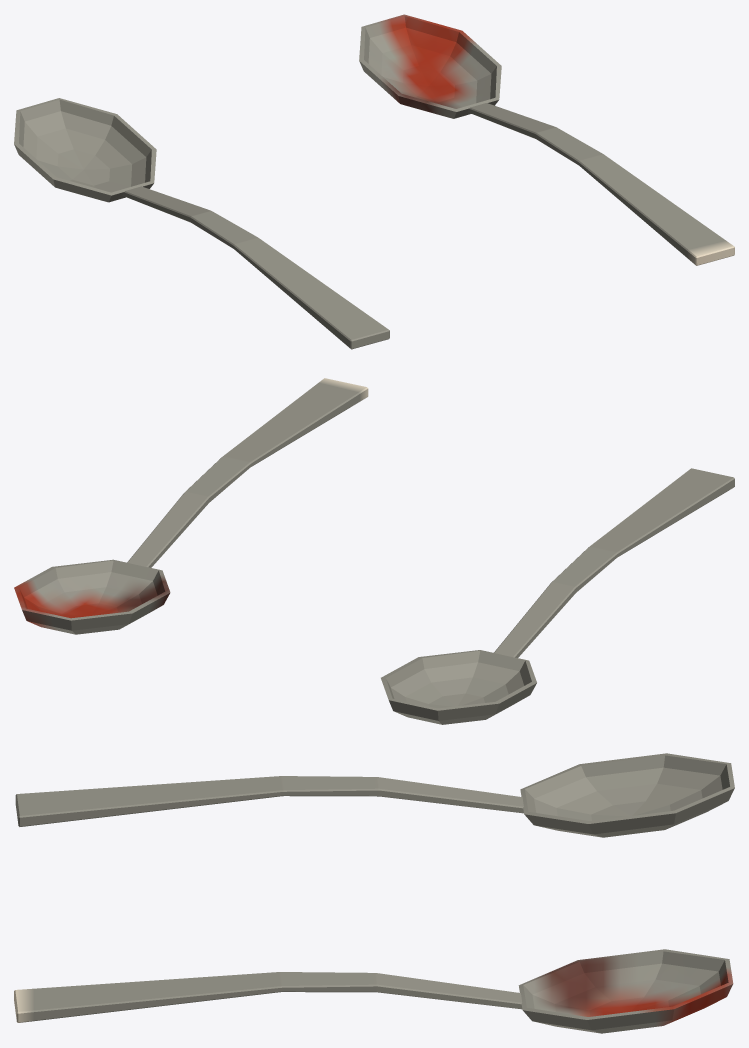
The model's file is spoons.fbx.
The picture shows the model from 3 angles, top to bottom: view 1: azimuth 30°, elevation 25°; view 2: azimuth 150°, elevation 25°; view 3: azimuth 270°, elevation 25°; orthographic projection. The views are drawn at different scales.
Parts seen in each view (by area): view 1: polySurface259, polySurface233; view 2: polySurface259, polySurface233; view 3: polySurface233, polySurface259.
Part boxes in pixels (x1=…): polySurface259: x1=359, y1=14, x2=734, y2=265; polySurface233: x1=14, y1=98, x2=389, y2=349; polySurface259: x1=14, y1=378, x2=368, y2=634; polySurface233: x1=381, y1=468, x2=734, y2=724; polySurface233: x1=15, y1=753, x2=734, y2=837; polySurface259: x1=14, y1=949, x2=733, y2=1033.
Size of the model in its own units: 324 by 28.59 by 382.
Materials: 1 (1 with a texture image).
